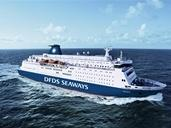youlun: (17, 41, 167, 103)
